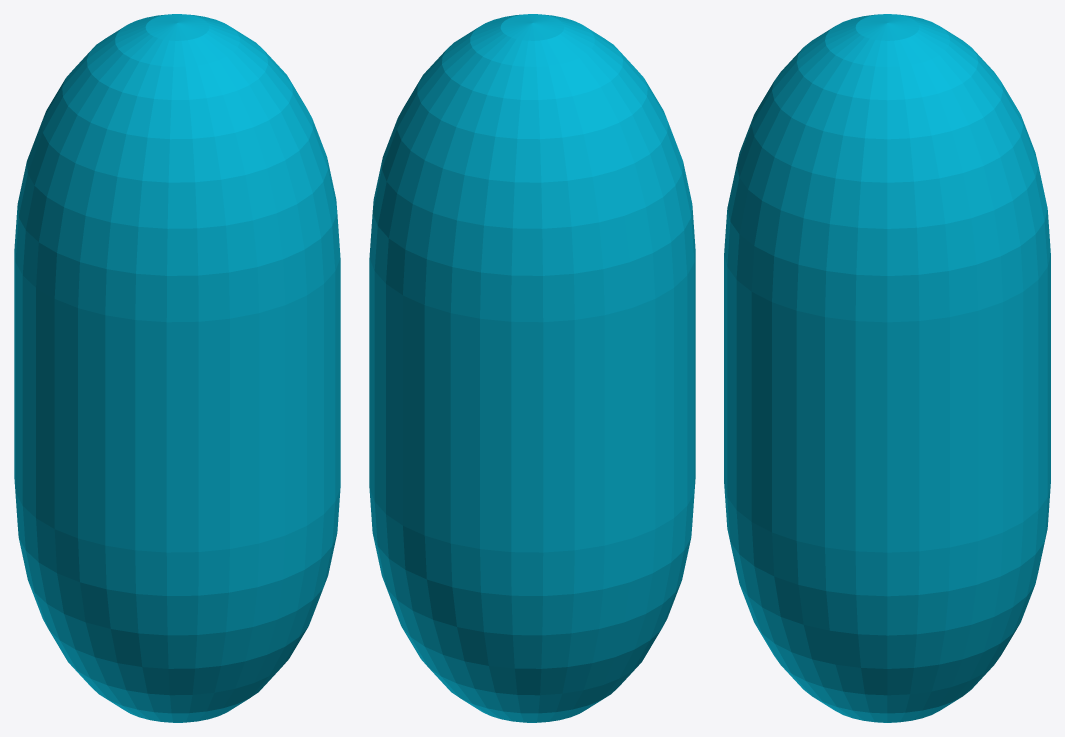
The model's file is player.glb.
3 views of the same model, side by side, from view 1: azimuth 30°, elevation 25°; view 2: azimuth 150°, elevation 25°; view 3: azimuth 270°, elevation 25° (orthographic).
Visible parts, largest first — view 1: Player; view 2: Player; view 3: Player.
Boxes of the visible parts, x1,y1,x2,y2 form: Player: (14,14,340,722); Player: (369,14,695,722); Player: (724,14,1050,722).
Size of the model in its own units: 0.72 by 1.68 by 0.72.
